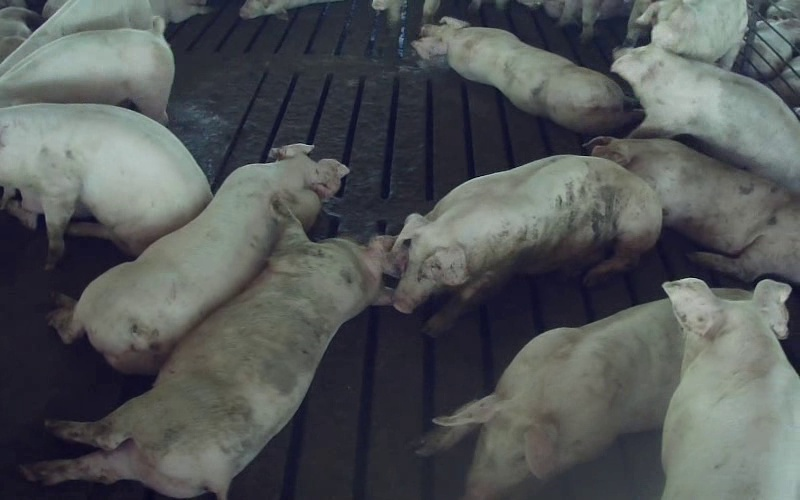pig: (24, 199, 404, 499), (48, 145, 347, 372), (418, 301, 682, 499), (393, 156, 661, 334), (589, 137, 799, 283), (662, 279, 799, 499), (611, 44, 799, 192), (412, 17, 634, 134), (0, 18, 173, 123), (637, 0, 747, 68)
